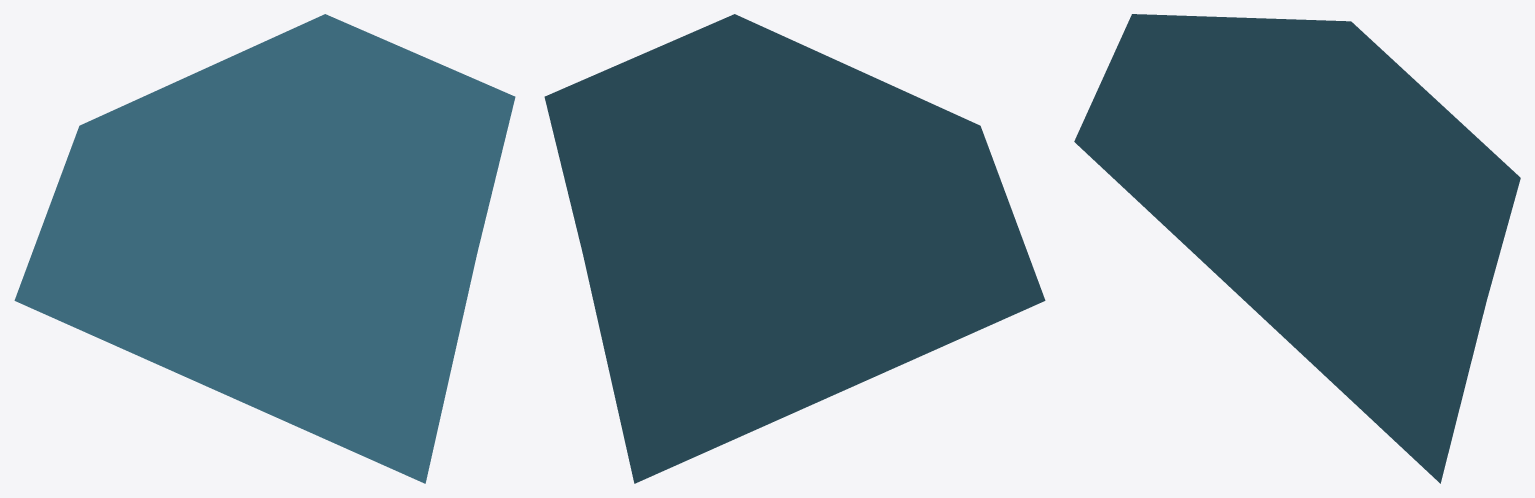
The model's file is NexusA_Cloth_18.fbx.
The picture shows the model from 3 angles, left to right: view 1: azimuth 30°, elevation 25°; view 2: azimuth 150°, elevation 25°; view 3: azimuth 330°, elevation 25°; orthographic projection. The views are drawn at different scales.
Visible parts, largest first — view 1: pasted__polySurface72; view 2: pasted__polySurface72; view 3: pasted__polySurface72.
Part boxes in pixels (x1,y1,x2,y2): pasted__polySurface72: [14, 14, 515, 483]; pasted__polySurface72: [544, 14, 1045, 483]; pasted__polySurface72: [1074, 14, 1520, 483].
Size of the model in its own units: 40.96 by 38.62 by 0.
